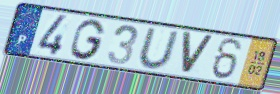3: (106, 23, 140, 66)
4: (35, 14, 71, 58)
6: (210, 37, 244, 82)
G: (69, 18, 107, 62)
U: (137, 27, 181, 72)
V: (180, 30, 216, 77)
